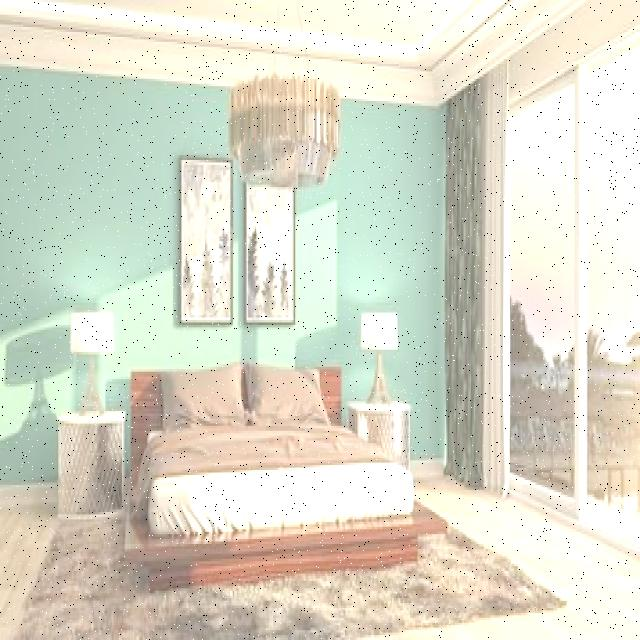bed: (134, 378, 390, 549)
